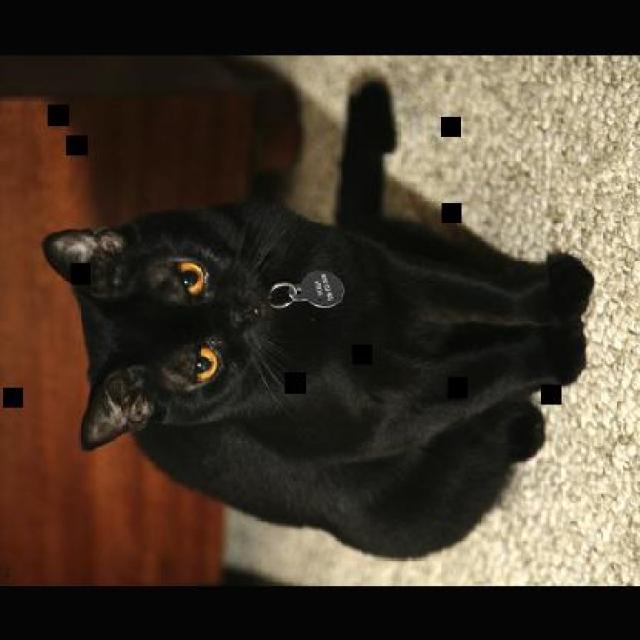unauthorized: (40, 75, 594, 560)
